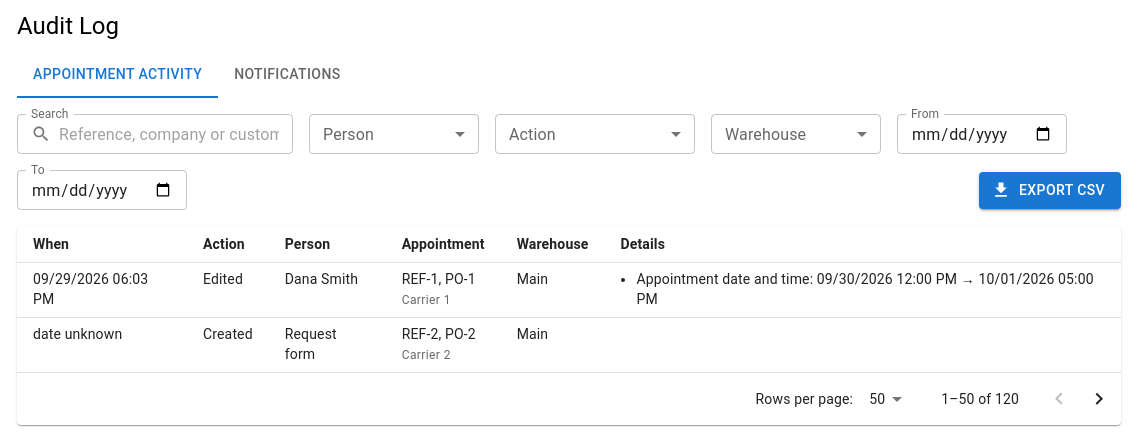
Test: Appointment activity tab › sends the trimmed search once typing stops, resets to page 1, and clears
Step 1. Click the button named "next page" → (1099, 399), box [1079, 379, 1119, 419]
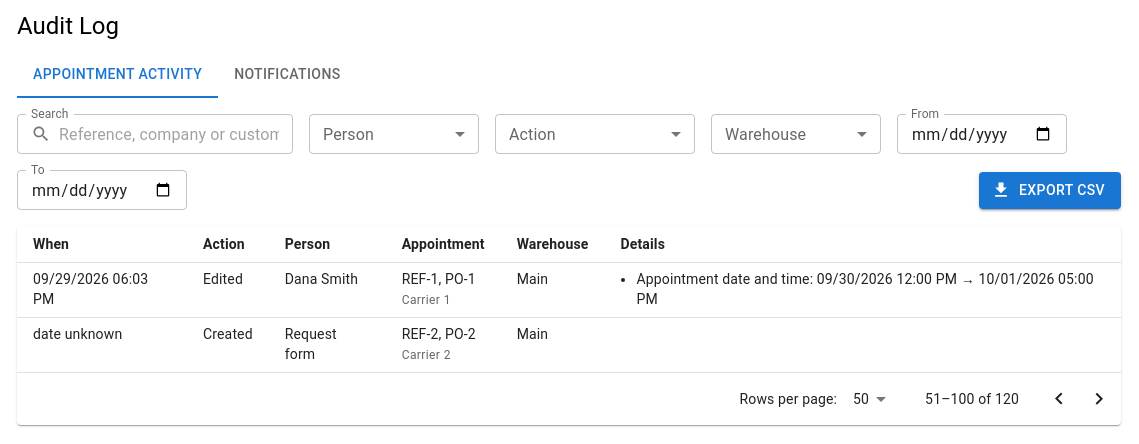
Step 2. Type "  PO-123 acme " into the field labelled "Search" → (176, 134), box [59, 114, 293, 154]
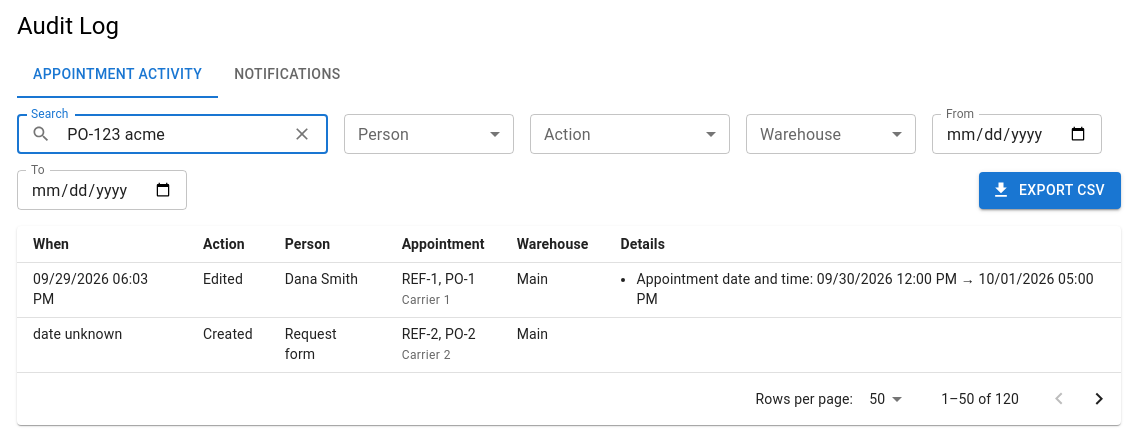
Step 3. Click the button named "clear search" → (302, 134), box [287, 119, 317, 149]
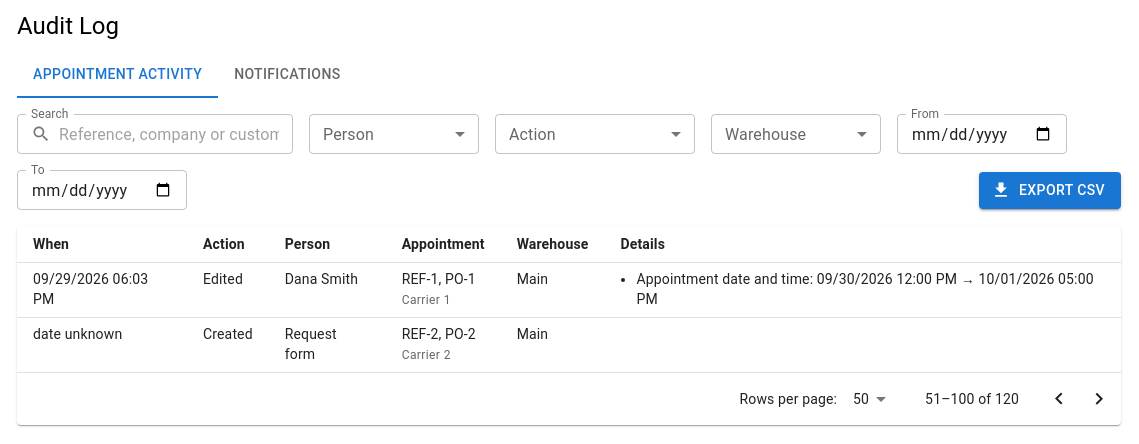
Result: the field labelled "Search" is empty at [59, 114, 293, 154]
